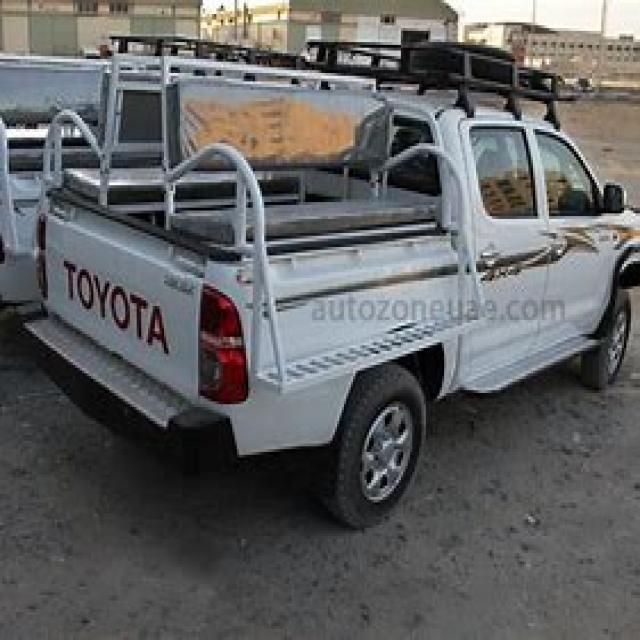light_vehicle: (41, 45, 638, 519)
